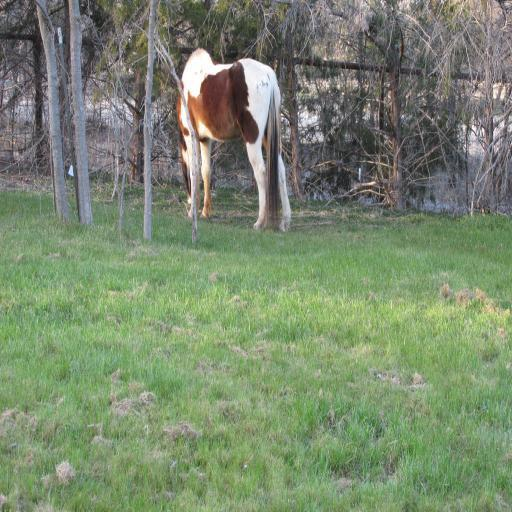horse: (175, 46, 293, 236)
